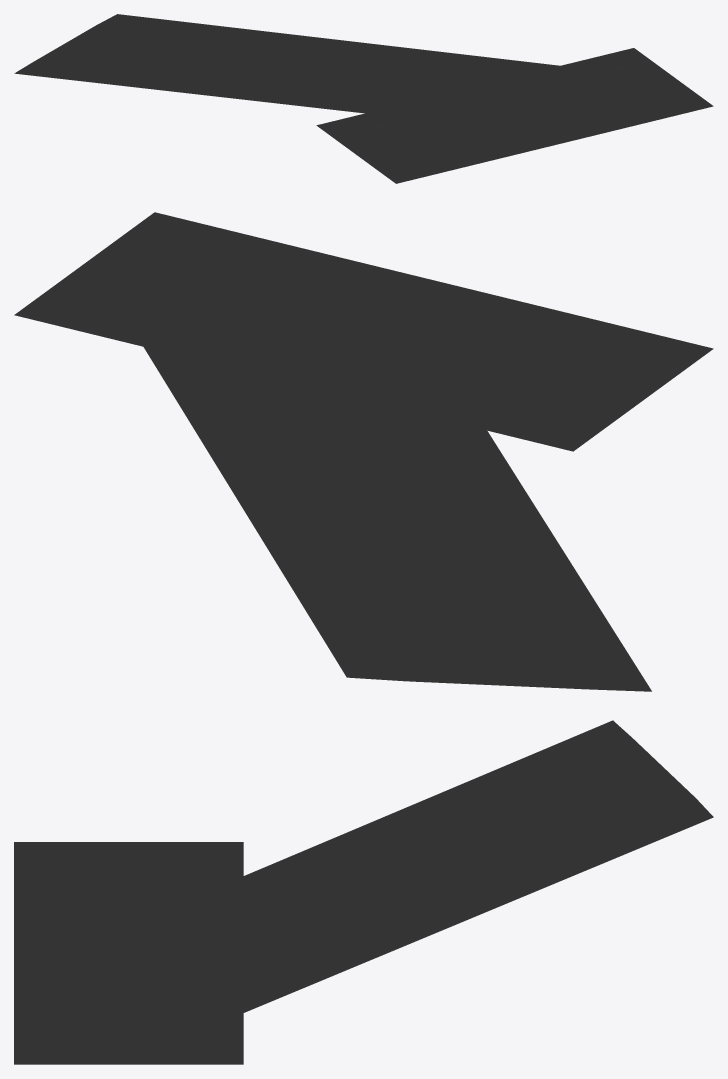
File: Slant_Intersection.fbx
3 renders of one model, top to bottom at view 1: azimuth 30°, elevation 25°; view 2: azimuth 150°, elevation 25°; view 3: azimuth 270°, elevation 25°, orthographic. The views are drawn at different scales.
Parts seen in each view (by area): view 1: Slant_Intersection; view 2: Slant_Intersection; view 3: Slant_Intersection.
Part boxes in pixels (x1=…): Slant_Intersection: x1=14, y1=14, x2=713, y2=183; Slant_Intersection: x1=14, y1=212, x2=713, y2=691; Slant_Intersection: x1=14, y1=720, x2=713, y2=1064.
Bounding box in the file's own units: 2010 × 1727 × 0.0405.
